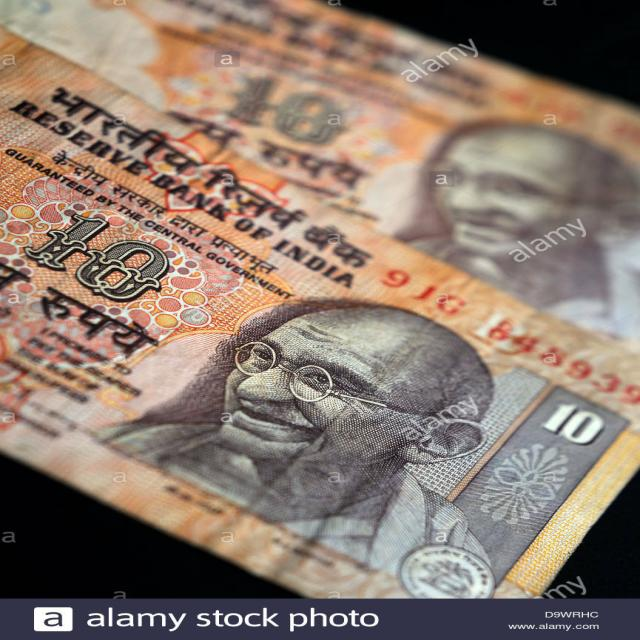10IndianRupees: (0, 69, 638, 608)
